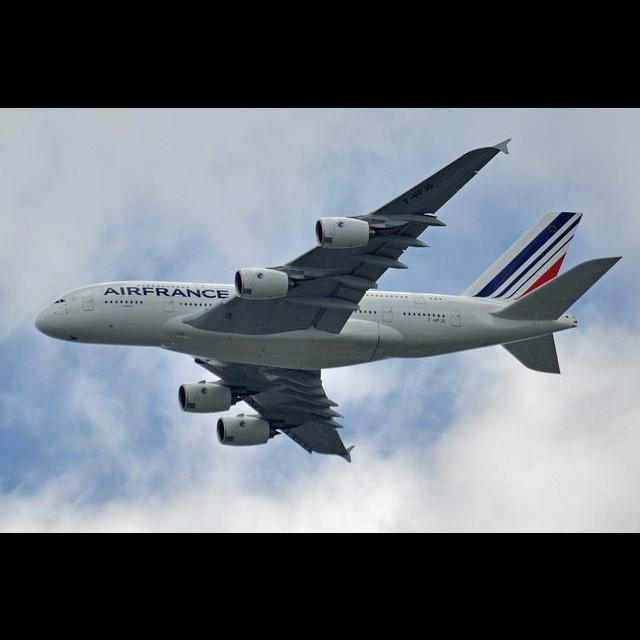airplane: (38, 149, 622, 467)
